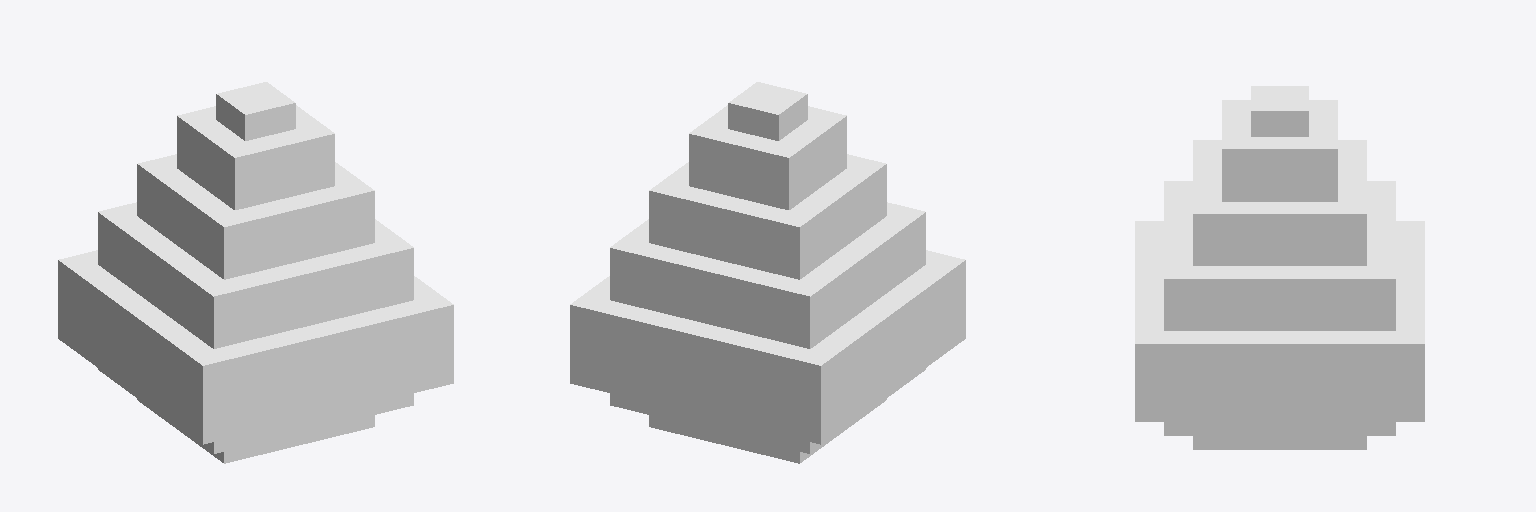
File: napzak.obj
3 views of the same model, side by side, from view 1: azimuth 30°, elevation 25°; view 2: azimuth 150°, elevation 25°; view 3: azimuth 270°, elevation 25° (orthographic).
Parts seen in each view (by area): view 1: object 1; view 2: object 1; view 3: object 1.
Part boxes in pixels (x1,y1,x2,y2): object 1: (58, 82, 453, 463); object 1: (570, 82, 965, 463); object 1: (1135, 86, 1424, 449).
Size of the model in its own units: 1 by 1.2 by 1.